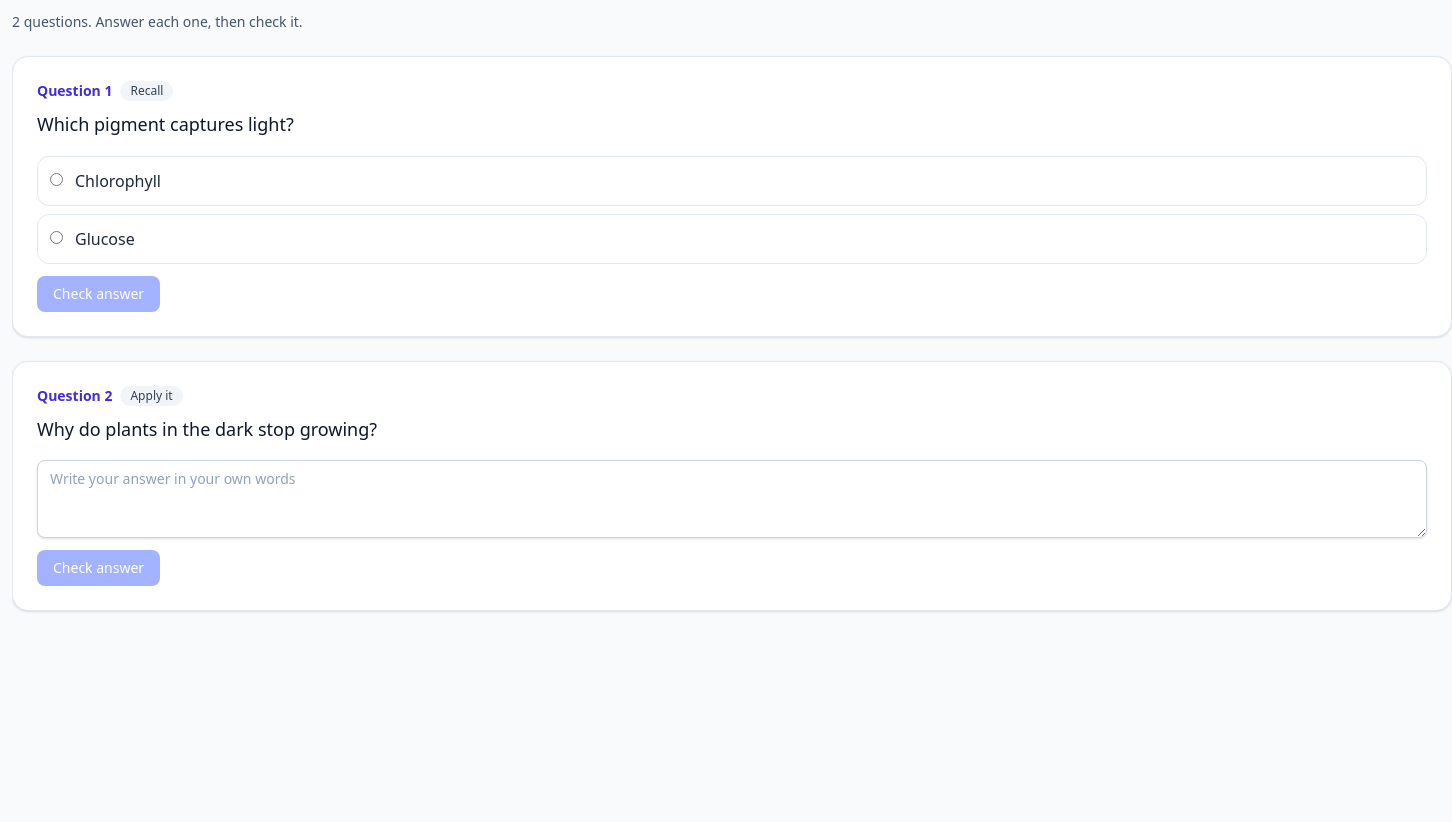
Test case: Quiz › grades multiple choice through the API and sends the CSRF header
Click the radio button labelled "Chlorophyll": point(56, 179) [50,173,63,186]
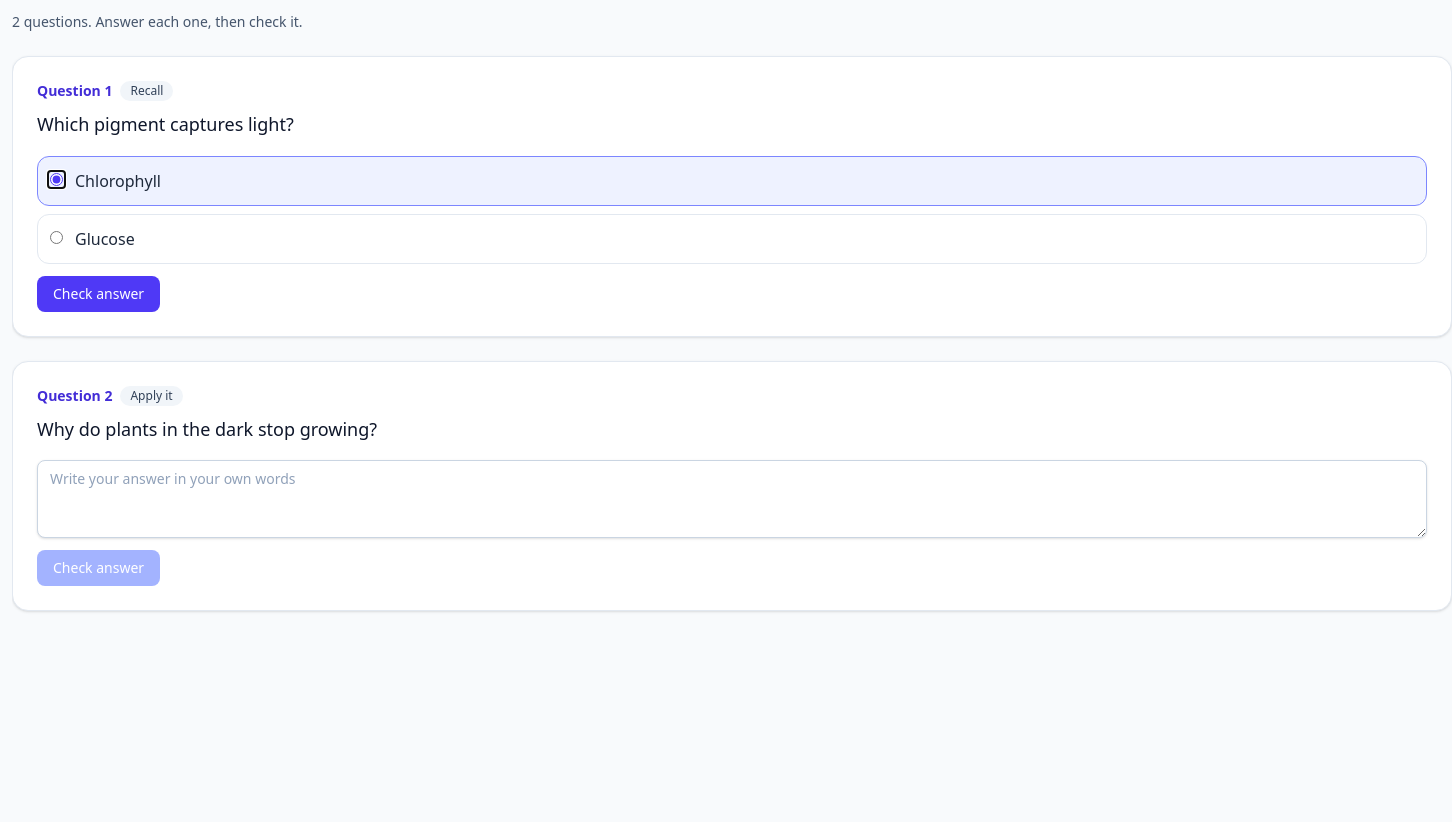
Click the button "Check answer" below "Glucose": point(99, 294) [37,276,160,312]
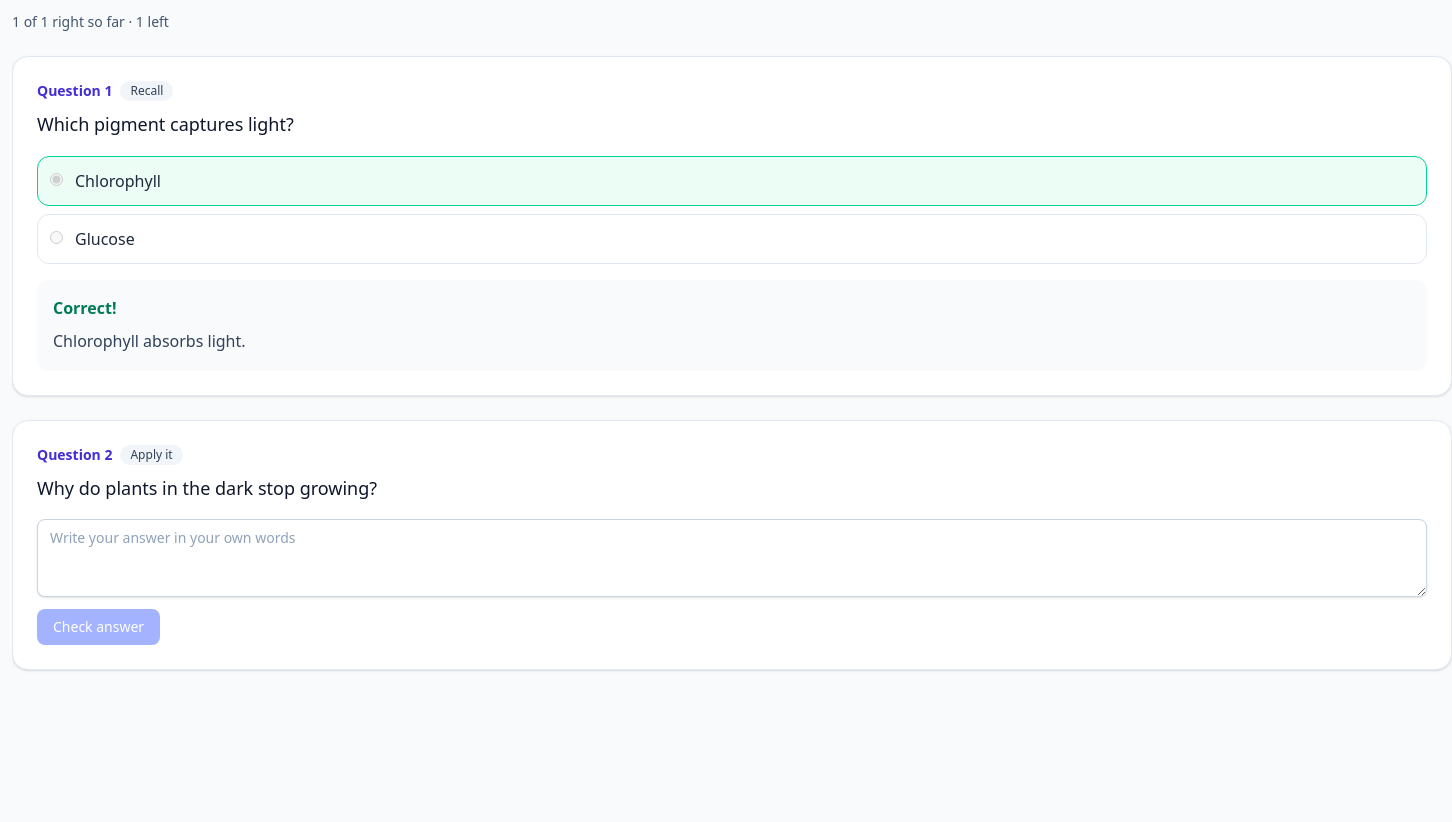
Result: the text "Correct!" is shown at [53,297,116,319]
Result: the text "1 of 1 right so far · 1 left" is shown at [12,12,169,31]
